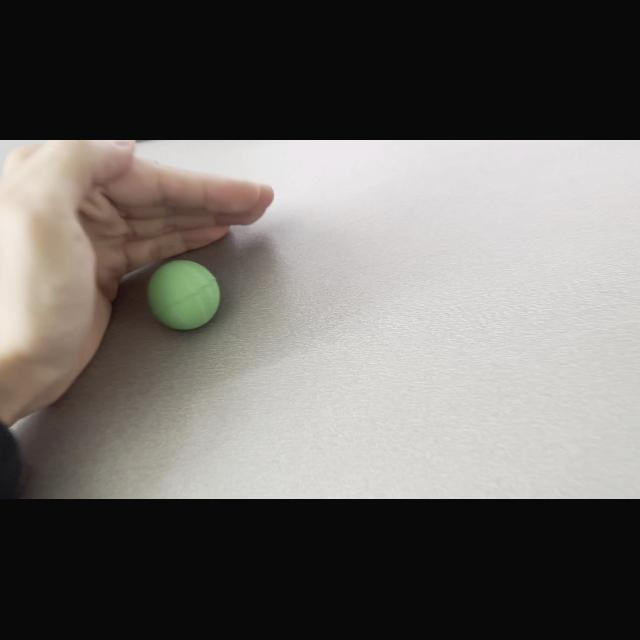objects: (144, 256, 224, 336)
